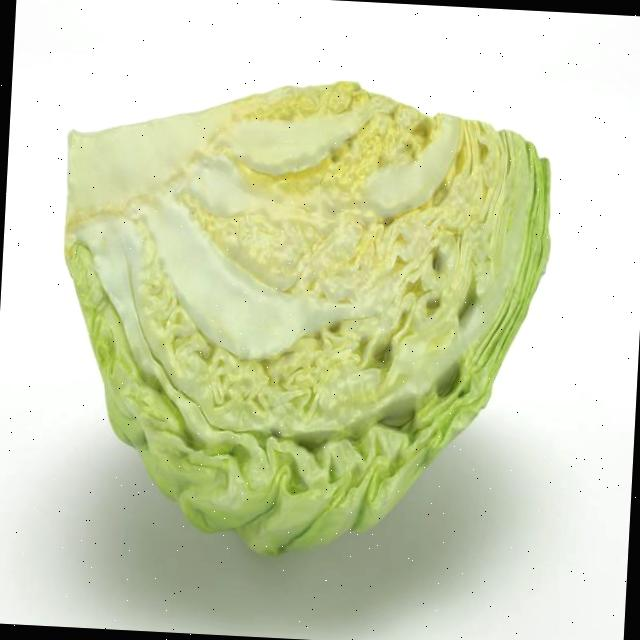cabbage: (41, 68, 564, 568)
